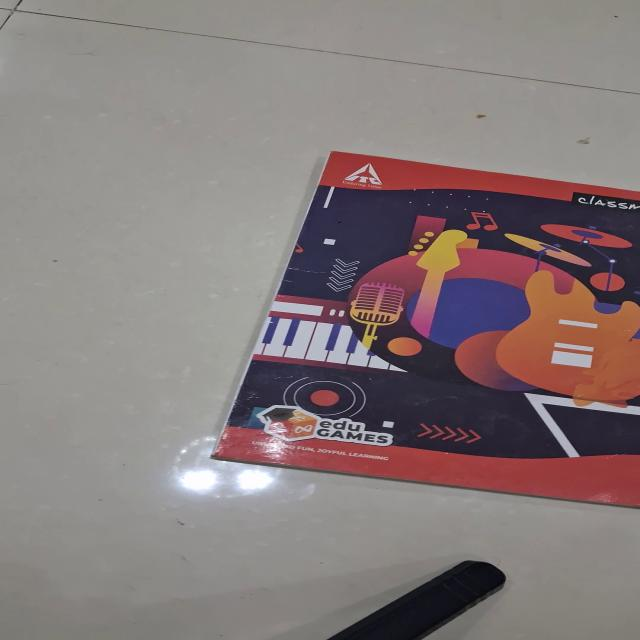paper: (210, 150, 639, 508)
